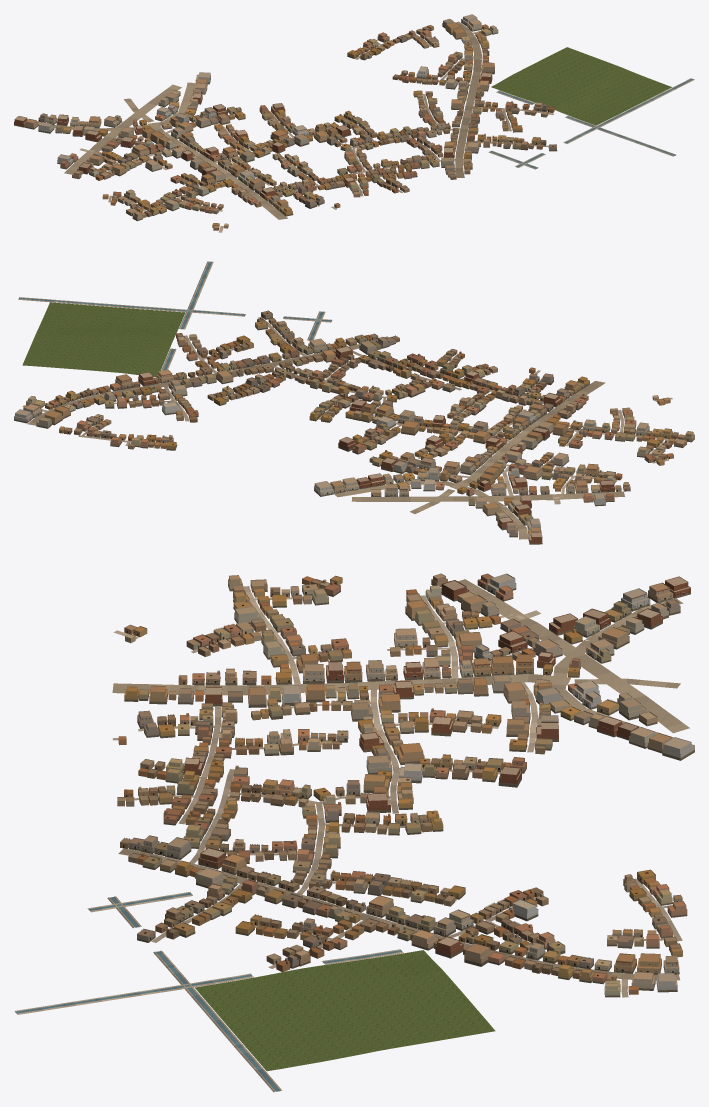
File: uruk_quarter_12.glb
3 renders of one model, top to bottom at view 1: azimuth 30°, elevation 25°; view 2: azimuth 150°, elevation 25°; view 3: azimuth 270°, elevation 25°, orthographic. The views are drawn at different scales.
Parts seen in each view (by area): view 1: uruk_quarter_12; view 2: uruk_quarter_12; view 3: uruk_quarter_12.
Boxes of the visible parts, x1,y1,x2,y2 form: uruk_quarter_12: [14, 14, 694, 232]; uruk_quarter_12: [14, 261, 694, 544]; uruk_quarter_12: [14, 573, 694, 1092].
Size of the model in its own units: 845 by 21.16 by 487.
Materials: 10 (6 with a texture image).
